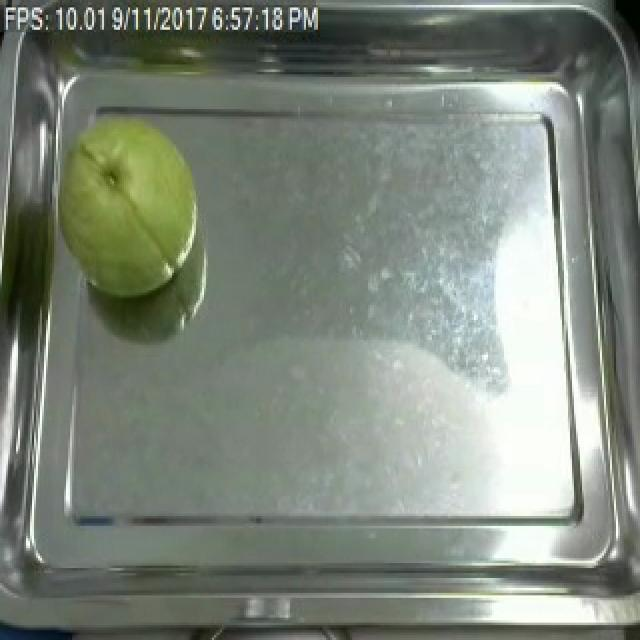Fruit: (46, 106, 210, 308)
